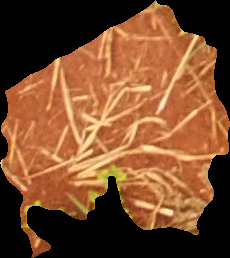soil: (1, 1, 230, 256)
